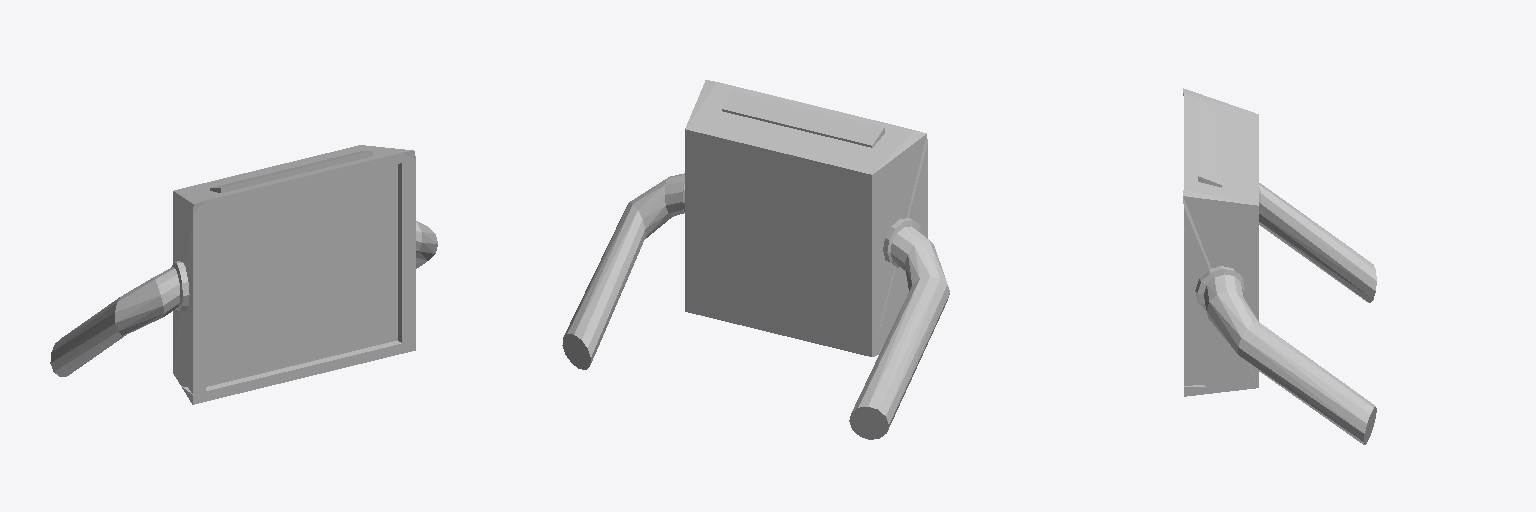
The model's file is spaceship-screen.obj.
3 views of the same model, side by side, from view 1: azimuth 30°, elevation 25°; view 2: azimuth 150°, elevation 25°; view 3: azimuth 270°, elevation 25° (orthographic).
Visible parts, largest first — view 1: screen_Cube.001; view 2: screen_Cube.001; view 3: screen_Cube.001.
Part boxes in pixels (left/top/right/bottom): screen_Cube.001: left=50, top=145, right=437, bottom=404; screen_Cube.001: left=562, top=80, right=949, bottom=439; screen_Cube.001: left=1183, top=88, right=1376, bottom=444.
Size of the model in its own units: 3.4 by 2.32 by 1.75.